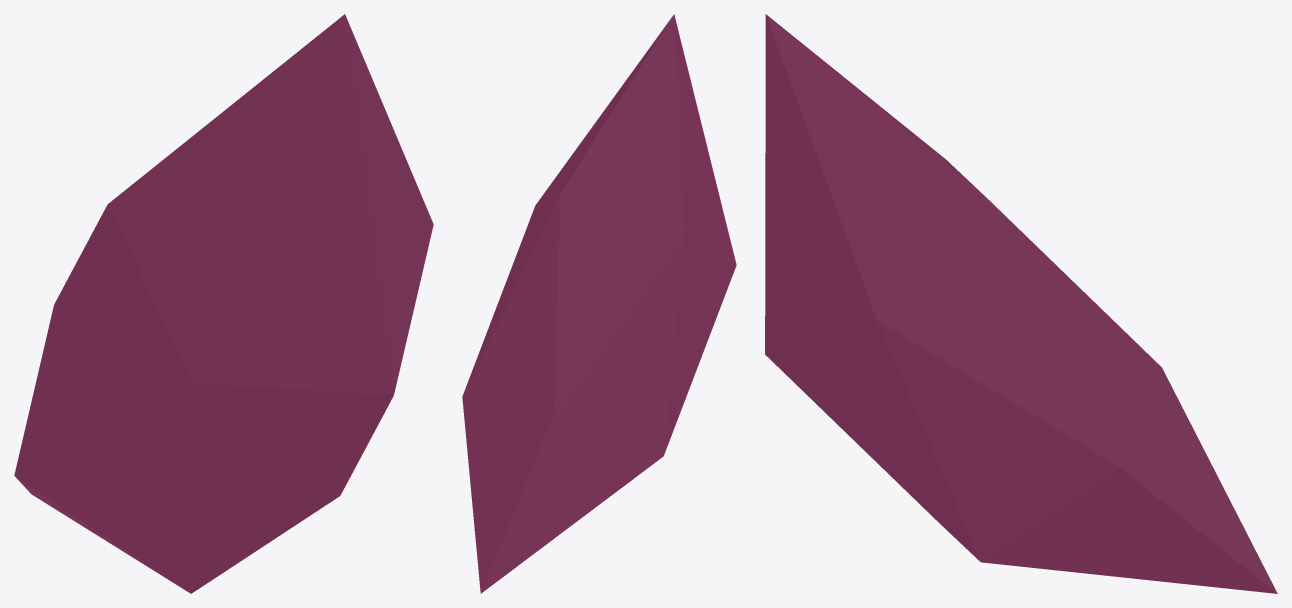
Rendered from 006_sweetPotato.gltf.
3 views of the same model, side by side, from view 1: azimuth 30°, elevation 25°; view 2: azimuth 150°, elevation 25°; view 3: azimuth 270°, elevation 25° (orthographic). The views are drawn at different scales.
Parts seen in each view (by area): view 1: Cube; view 2: Cube; view 3: Cube.
Boxes of the visible parts, x1,y1,x2,y2 form: Cube: [14, 14, 433, 593]; Cube: [462, 14, 736, 593]; Cube: [765, 14, 1277, 593].
Bounding box in the file's own units: 2.27 × 4.91 × 3.94.
